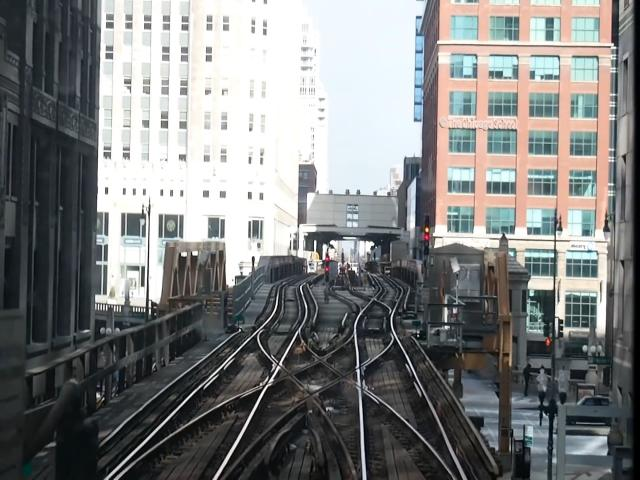signal light: (424, 214, 432, 261), (325, 253, 332, 288)
